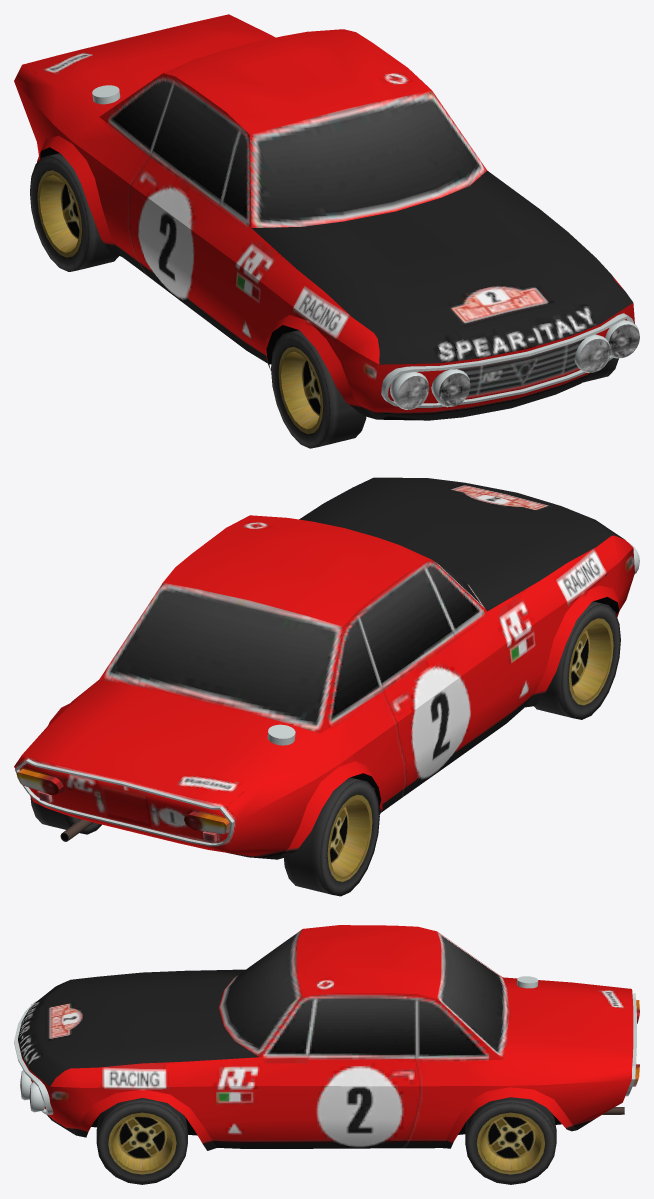
Rendered from Lancia Fulvia.fbx.
3 renders of one model, top to bottom at view 1: azimuth 30°, elevation 25°; view 2: azimuth 150°, elevation 25°; view 3: azimuth 270°, elevation 25°, orthographic. The views are drawn at different scales.
Parts seen in each view (by area): view 1: Lancia Fulvia, L_front_wheel_geo #370474.003, L_front_wheel_geo #370474.002; view 2: Lancia Fulvia, L_front_wheel_geo #370474.002, L_front_wheel_geo #370474.003, L_front_wheel_geo #370474.001; view 3: Lancia Fulvia, L_front_wheel_geo #370474.001, L_front_wheel_geo #370474.
Boxes of the visible parts, box(x1,y1,x2,y2) form: Lancia Fulvia: box(14, 14, 639, 420); L_front_wheel_geo #370474.003: box(271, 330, 366, 448); L_front_wheel_geo #370474.002: box(30, 153, 118, 271); Lancia Fulvia: box(14, 477, 639, 859); L_front_wheel_geo #370474.002: box(284, 777, 379, 896); L_front_wheel_geo #370474.003: box(534, 601, 620, 719); L_front_wheel_geo #370474.001: box(30, 797, 101, 834); Lancia Fulvia: box(14, 925, 639, 1150); L_front_wheel_geo #370474.001: box(465, 1097, 556, 1184); L_front_wheel_geo #370474: box(96, 1098, 187, 1184).
Size of the model in its own units: 164 by 123 by 395.
Materials: 5 (5 with a texture image).
